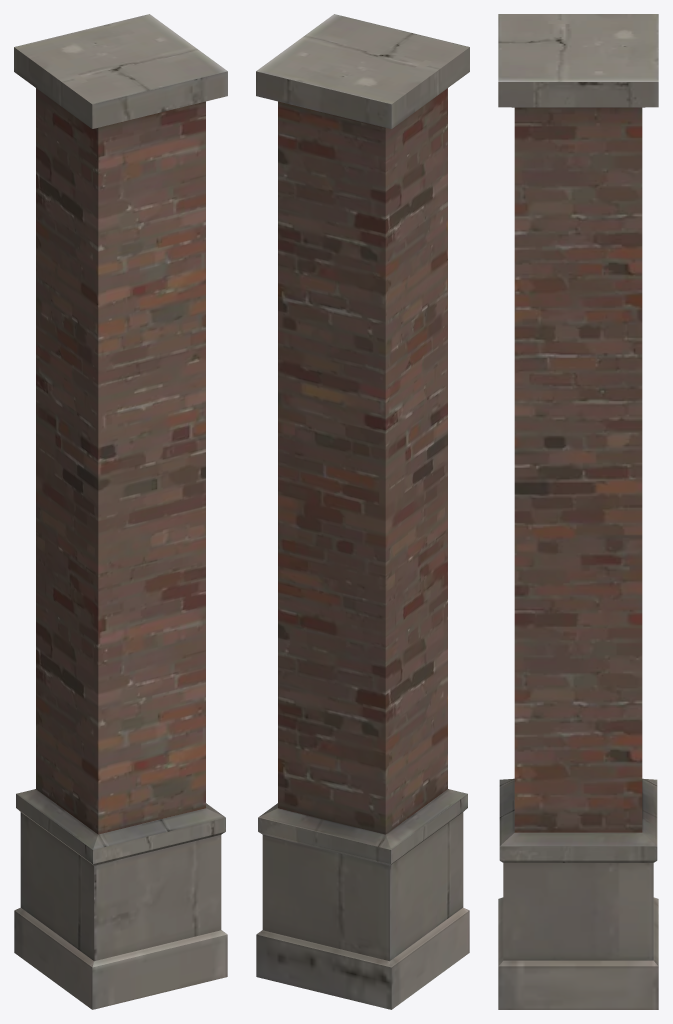
3 renders of one model, left to right at view 1: azimuth 30°, elevation 25°; view 2: azimuth 150°, elevation 25°; view 3: azimuth 270°, elevation 25°, orthographic. The views are drawn at different scales.
Visible parts, largest first — view 1: body0_model0_lod0_mesh0; view 2: body0_model0_lod0_mesh0; view 3: body0_model0_lod0_mesh0.
Part boxes in pixels (x1,y1,x2,y2): body0_model0_lod0_mesh0: (14,14,227,1009); body0_model0_lod0_mesh0: (256,14,469,1009); body0_model0_lod0_mesh0: (498,14,658,1009).
Size of the model in its own units: 40.13 by 256 by 40.13.
Materials: 1 (1 with a texture image).
